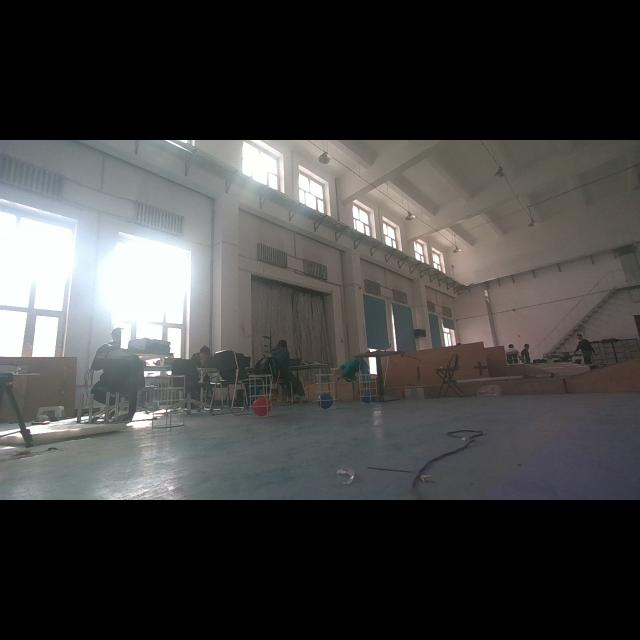B: (316, 394, 334, 408), (360, 392, 376, 404)
R: (251, 398, 269, 416)
S: (150, 372, 188, 432), (246, 373, 274, 419), (310, 373, 340, 412), (356, 372, 380, 406)
